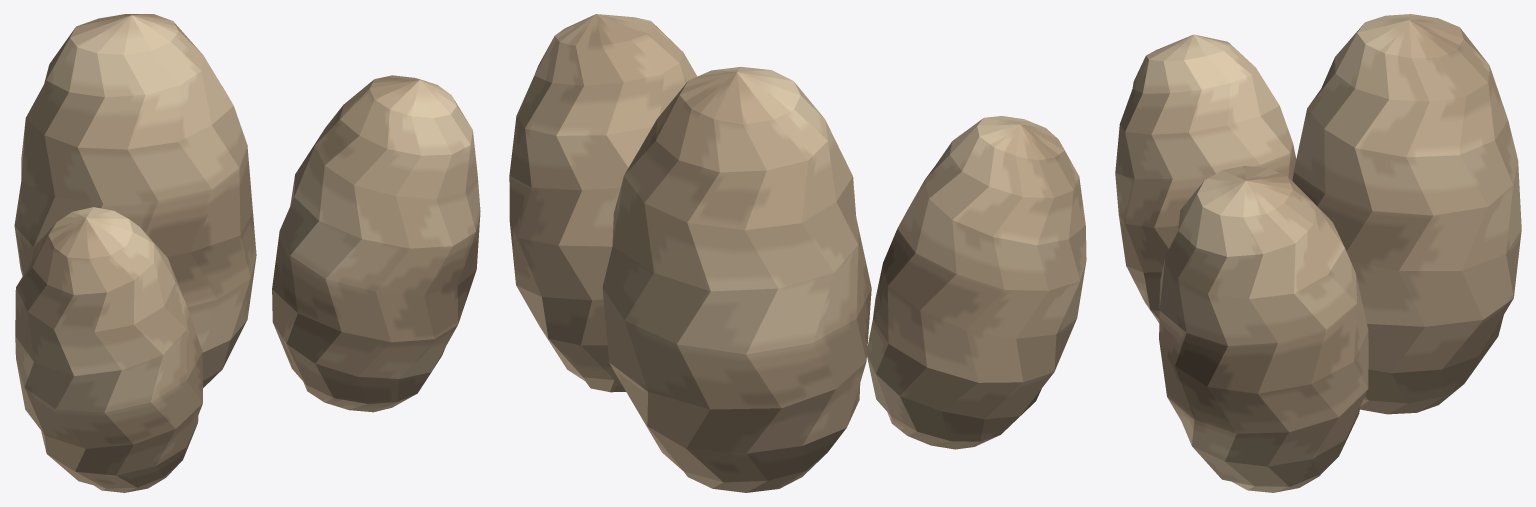
Rendered from SM_AN31_EggClutch.fbx.
3 renders of one model, left to right at view 1: azimuth 30°, elevation 25°; view 2: azimuth 150°, elevation 25°; view 3: azimuth 270°, elevation 25°, orthographic. The views are drawn at different scales.
Parts seen in each view (by area): view 1: AN31b_Props; view 2: AN31b_Props; view 3: AN31b_Props.
Boxes of the visible parts, bbox=[...] form: AN31b_Props: bbox=[14, 14, 480, 492]; AN31b_Props: bbox=[509, 14, 1086, 492]; AN31b_Props: bbox=[1115, 14, 1521, 492].
Size of the model in its own units: 0.8752 by 0.6683 by 0.65.
